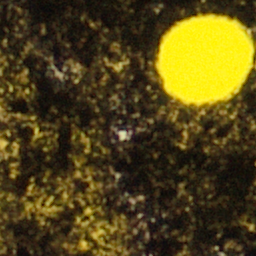air_pores: (155, 14, 255, 108)
cement_matrix: (0, 0, 255, 255), (94, 227, 102, 238), (122, 132, 126, 137)
gravel_crushed_stones: (95, 228, 101, 237), (123, 133, 125, 136)
